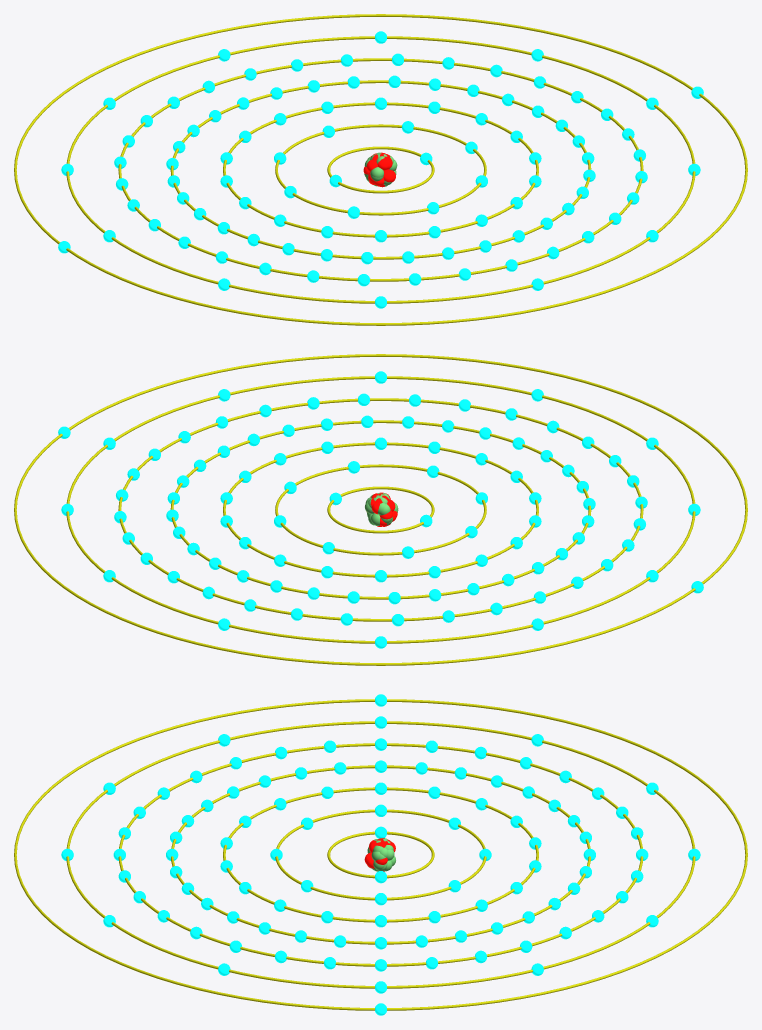
File: atomo_106.glb
3 renders of one model, top to bottom at view 1: azimuth 30°, elevation 25°; view 2: azimuth 150°, elevation 25°; view 3: azimuth 270°, elevation 25°, orthographic.
Visible parts, largest first — view 1: orbital_7, orbital_6, orbital_5, orbital_4, orbital_3, orbital_2, orbital_1; view 2: orbital_7, orbital_6, orbital_5, orbital_4, orbital_3, orbital_2, orbital_1; view 3: orbital_7, orbital_6, orbital_5, orbital_4, orbital_3, orbital_2, orbital_1.
Part boxes in pixels (x1,y1,x2,y2): orbital_7: [14, 14, 747, 325]; orbital_6: [66, 36, 695, 303]; orbital_5: [118, 58, 643, 281]; orbital_4: [170, 80, 591, 259]; orbital_3: [223, 102, 538, 237]; orbital_2: [275, 124, 486, 215]; orbital_1: [327, 146, 434, 193]; orbital_7: [14, 354, 747, 665]; orbital_6: [66, 376, 695, 643]; orbital_5: [118, 398, 643, 621]; orbital_4: [170, 420, 591, 599]; orbital_3: [223, 442, 538, 577]; orbital_2: [275, 464, 486, 555]; orbital_1: [327, 486, 434, 533]; orbital_7: [14, 699, 747, 1010]; orbital_6: [66, 721, 695, 988]; orbital_5: [118, 743, 643, 966]; orbital_4: [171, 765, 590, 944]; orbital_3: [223, 787, 538, 922]; orbital_2: [275, 809, 486, 900]; orbital_1: [327, 831, 434, 878].
Bounding box in the file's own units: 21.36 × 0.9988 × 21.08.
